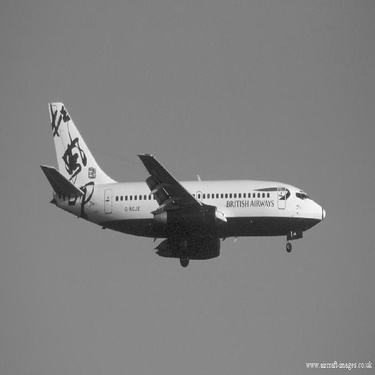airplane: (8, 87, 342, 278)
